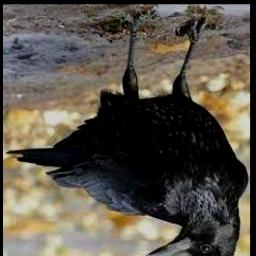Crow: (5, 11, 248, 256)
